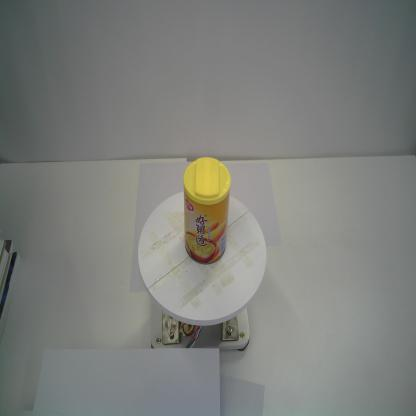Canned Food: (181, 156, 233, 266)
